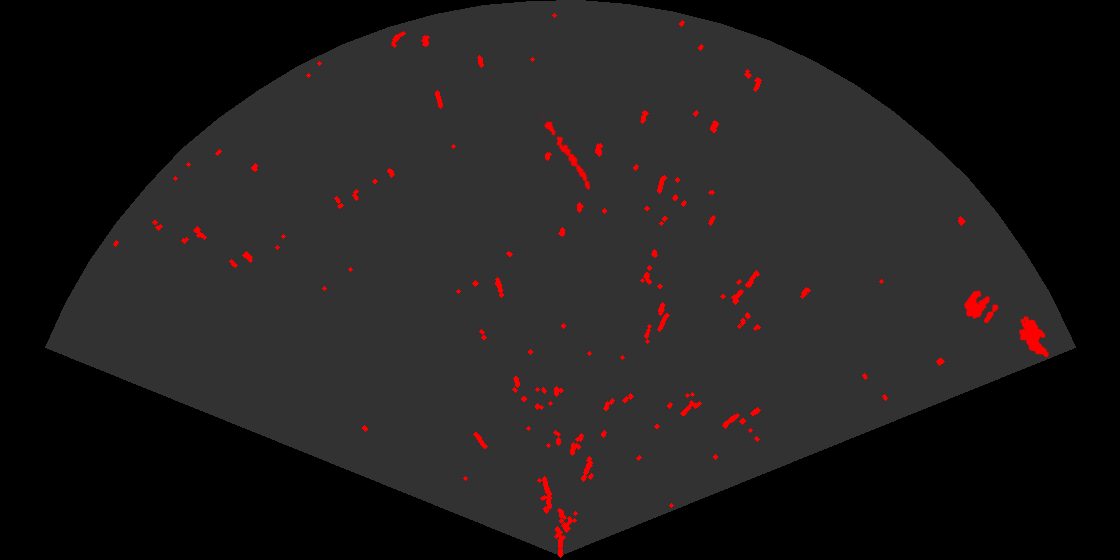AUV: (1017, 315, 1050, 359)
ball: (963, 289, 1000, 325)
chain: (537, 111, 592, 191)
